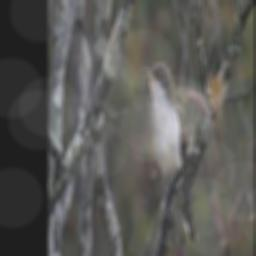Cuckoo: (141, 61, 199, 246)
